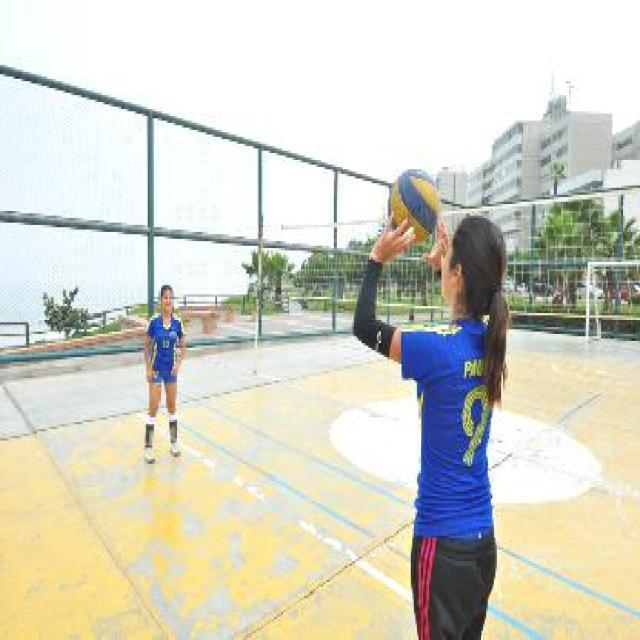volleyball: (388, 170, 438, 244)
